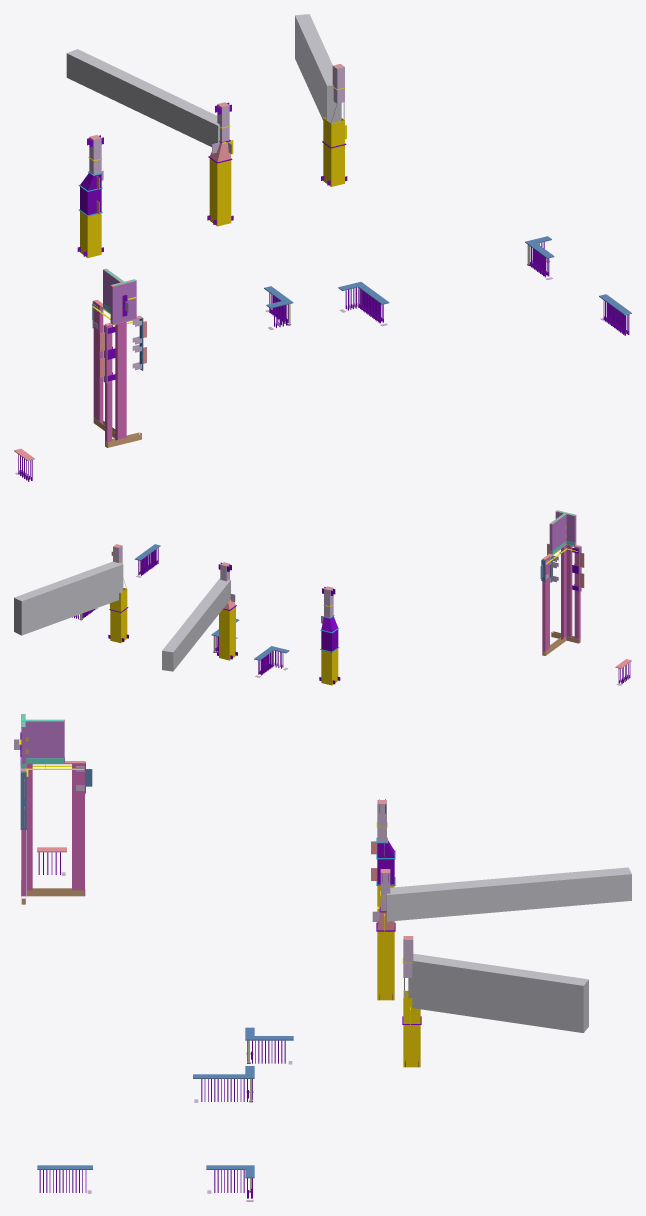
3 renders of one model, top to bottom at view 1: azimuth 30°, elevation 25°; view 2: azimuth 150°, elevation 25°; view 3: azimuth 270°, elevation 25°, orthographic. The views are drawn at different scales.
Visible parts, largest first — view 1: CG1[1WOybp0001PZ4sCJSnDJOm], CG1[1WOybp0003IZ4sCJSnDJWt], 18-1GZ[1UnSpL000W5J4rEJ0mD3Wu], 18-1GSQ7[1WF3Of000DSJ4sCJGrDpWp], 18-1GZ[1WL_ax000OBp4sCJOpEJ8s], 18-1GZ[1UnSpL000WF34rEJ0mD3Wu], 18-1GSQ7[1WOI5V000M2Z4sCJOvEJKr], 18-1GSQ7[1WF3Of000DT34sCJGrDpWp]; view 2: CG1[1WOybp0003IZ4sCJSnDJWt], CG1[1WOybp0001PZ4sCJSnDJOm], 18-1GZ[1UnSpL000W5J4rEJ0mD3Wu], 18-1GSQ7[1WF3Of000DSJ4sCJGrDpWp], 18-1GZ[1WL_ax000OBp4sCJOpEJ8s], 18-1GSQ7[1WOI5V000LqZ4sCJOvEJKq], 18-1GZ[1UnSpL000WF34rEJ0mD3Wu], 18-1GSQ7[1WF3Of000DT34sCJGrDpWp], 18-1GSQ7[1WOI5V000M3Z4sCJOvEJKr], 18-1GZ[1WL_ax000QB34sCJOpEJ8t], 18-1GSQ7[1WOI5V000M2Z4sCJOvEJKr], 18-1GZ[1WFjwD0005CJ4sCJGtCpOn]; view 3: CG1[1WOybp0003IZ4sCJSnDJWt], CG1[1WOybp0001PZ4sCJSnDJOm], 18-1GZ[1UnSpL000W5J4rEJ0mD3Wu], 18-1GSQ7[1WOI5V000LqZ4sCJOvEJKq], 18-1GSQ7[1WOI5V000M2Z4sCJOvEJKr], 18-1GSQ7[1WOI5V000M3Z4sCJOvEJKr], 18-1GZ[1UnSpL000WF34rEJ0mD3Wu].
Boxes of the visible parts, x1=… form: CG1[1WOybp0001PZ4sCJSnDJOm]: x1=66, y1=49, x2=219, y2=148; CG1[1WOybp0003IZ4sCJSnDJWt]: x1=295, y1=14, x2=341, y2=122; 18-1GZ[1UnSpL000W5J4rEJ0mD3Wu]: x1=209, y1=158, x2=231, y2=226; 18-1GSQ7[1WF3Of000DSJ4sCJGrDpWp]: x1=115, y1=322, x2=122, y2=440; 18-1GZ[1WL_ax000OBp4sCJOpEJ8s]: x1=80, y1=211, x2=101, y2=257; 18-1GZ[1UnSpL000WF34rEJ0mD3Wu]: x1=323, y1=143, x2=344, y2=186; 18-1GSQ7[1WOI5V000M2Z4sCJOvEJKr]: x1=96, y1=304, x2=103, y2=423; 18-1GSQ7[1WF3Of000DT34sCJGrDpWp]: x1=105, y1=325, x2=112, y2=447; CG1[1WOybp0003IZ4sCJSnDJWt]: x1=14, y1=561, x2=123, y2=635; CG1[1WOybp0001PZ4sCJSnDJOm]: x1=162, y1=578, x2=230, y2=671; 18-1GZ[1UnSpL000W5J4rEJ0mD3Wu]: x1=219, y1=607, x2=235, y2=660; 18-1GSQ7[1WF3Of000DSJ4sCJGrDpWp]: x1=566, y1=545, x2=572, y2=640; 18-1GZ[1WL_ax000OBp4sCJOpEJ8s]: x1=321, y1=649, x2=338, y2=685; 18-1GSQ7[1WOI5V000LqZ4sCJOvEJKq]: x1=561, y1=545, x2=566, y2=640; 18-1GZ[1UnSpL000WF34rEJ0mD3Wu]: x1=110, y1=609, x2=127, y2=643; 18-1GSQ7[1WF3Of000DT34sCJGrDpWp]: x1=574, y1=546, x2=580, y2=643; 18-1GSQ7[1WOI5V000M3Z4sCJOvEJKr]: x1=542, y1=559, x2=547, y2=655; 18-1GZ[1WL_ax000QB34sCJOpEJ8t]: x1=321, y1=629, x2=338, y2=651; 18-1GSQ7[1WOI5V000M2Z4sCJOvEJKr]: x1=547, y1=557, x2=549, y2=649; 18-1GZ[1WFjwD0005CJ4sCJGtCpOn]: x1=110, y1=588, x2=127, y2=611; CG1[1WOybp0003IZ4sCJSnDJWt]: x1=408, y1=953, x2=588, y2=1032; CG1[1WOybp0001PZ4sCJSnDJOm]: x1=386, y1=867, x2=631, y2=921; 18-1GZ[1UnSpL000W5J4rEJ0mD3Wu]: x1=377, y1=931, x2=394, y2=1000; 18-1GSQ7[1WOI5V000LqZ4sCJOvEJKq]: x1=26, y1=763, x2=32, y2=896; 18-1GSQ7[1WOI5V000M2Z4sCJOvEJKr]: x1=72, y1=763, x2=78, y2=890; 18-1GSQ7[1WOI5V000M3Z4sCJOvEJKr]: x1=78, y1=763, x2=84, y2=896; 18-1GZ[1UnSpL000WF34rEJ0mD3Wu]: x1=403, y1=1025, x2=420, y2=1067.
Bounding box in the file's own units: 23.91 × 6.75 × 18.92.
